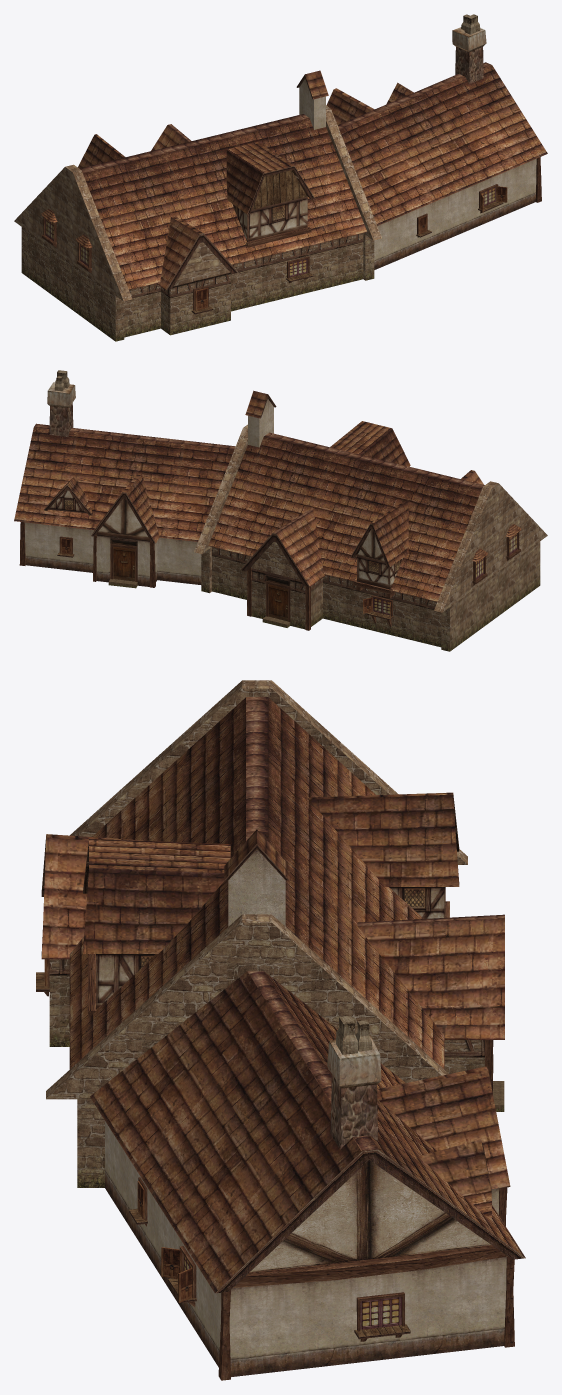
The model's file is ti_house_03.glb.
3 views of the same model, one above another, from view 1: azimuth 30°, elevation 25°; view 2: azimuth 150°, elevation 25°; view 3: azimuth 270°, elevation 25° (orthographic). The views are drawn at different scales.
Parts seen in each view (by area): view 1: TI_House_03; view 2: TI_House_03; view 3: TI_House_03.
Part boxes in pixels (x1,y1,x2,y2): TI_House_03: (14, 14, 547, 341); TI_House_03: (14, 370, 547, 651); TI_House_03: (36, 680, 525, 1380).
Bounding box in the file's own units: 10.16 × 3.6 × 4.74.
Materials: 26 (26 with a texture image).
